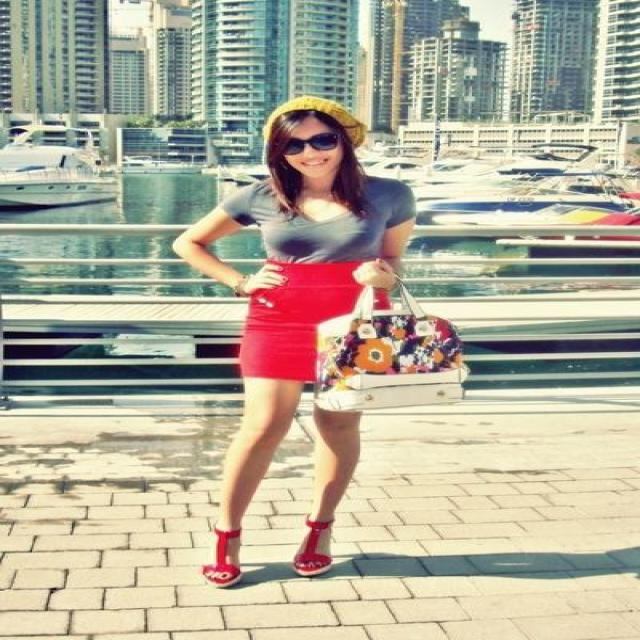bag: (298, 287, 484, 421)
hat: (270, 84, 376, 150)
shirt: (232, 176, 448, 265)
shoe: (294, 536, 332, 570)
skirt: (234, 258, 363, 380)
